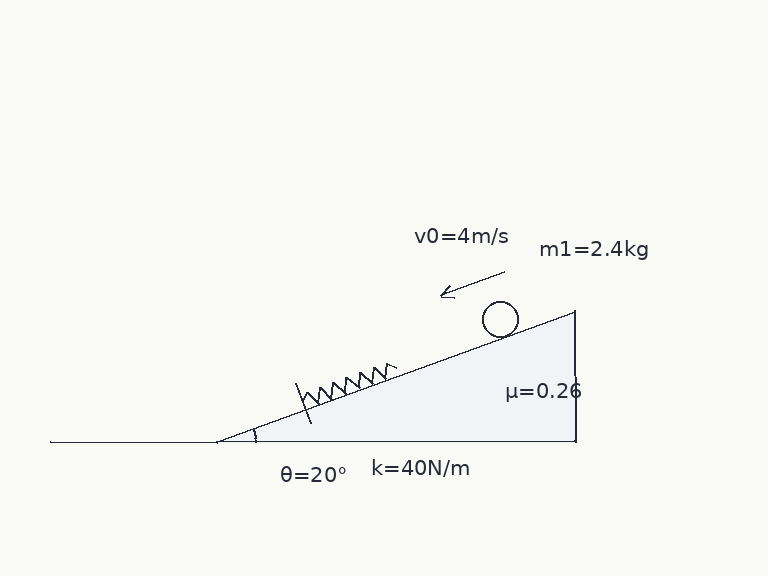ball: (480, 299, 520, 339)
ramp: (214, 309, 577, 444)
spring: (301, 361, 398, 405)
